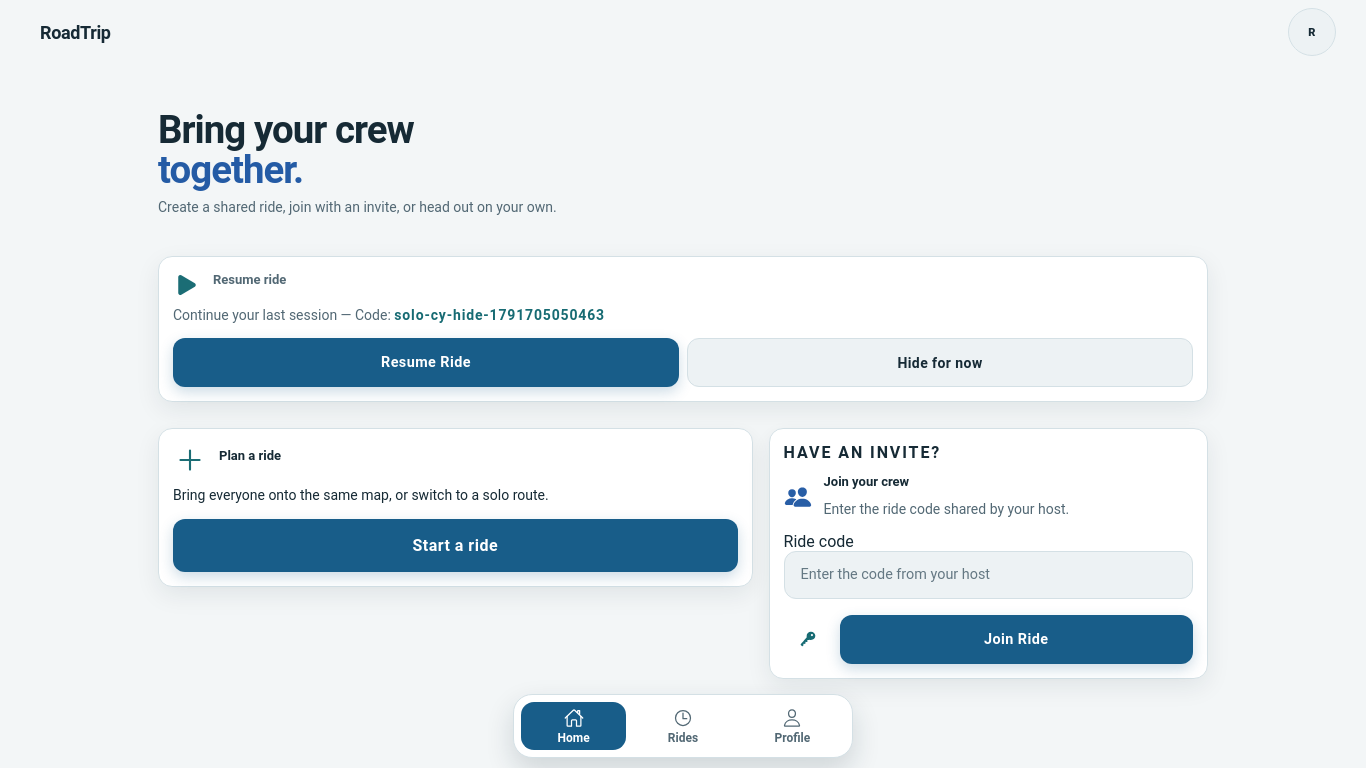
Scenario: step-by-step ride setup › hides a resume card without deleting its session, track, or photo records
What coordinates should you click on to do the following:
click the button "Hide for now"
I would click on:
 (940, 363)
Its box is left=687, top=338, right=1193, bottom=387.
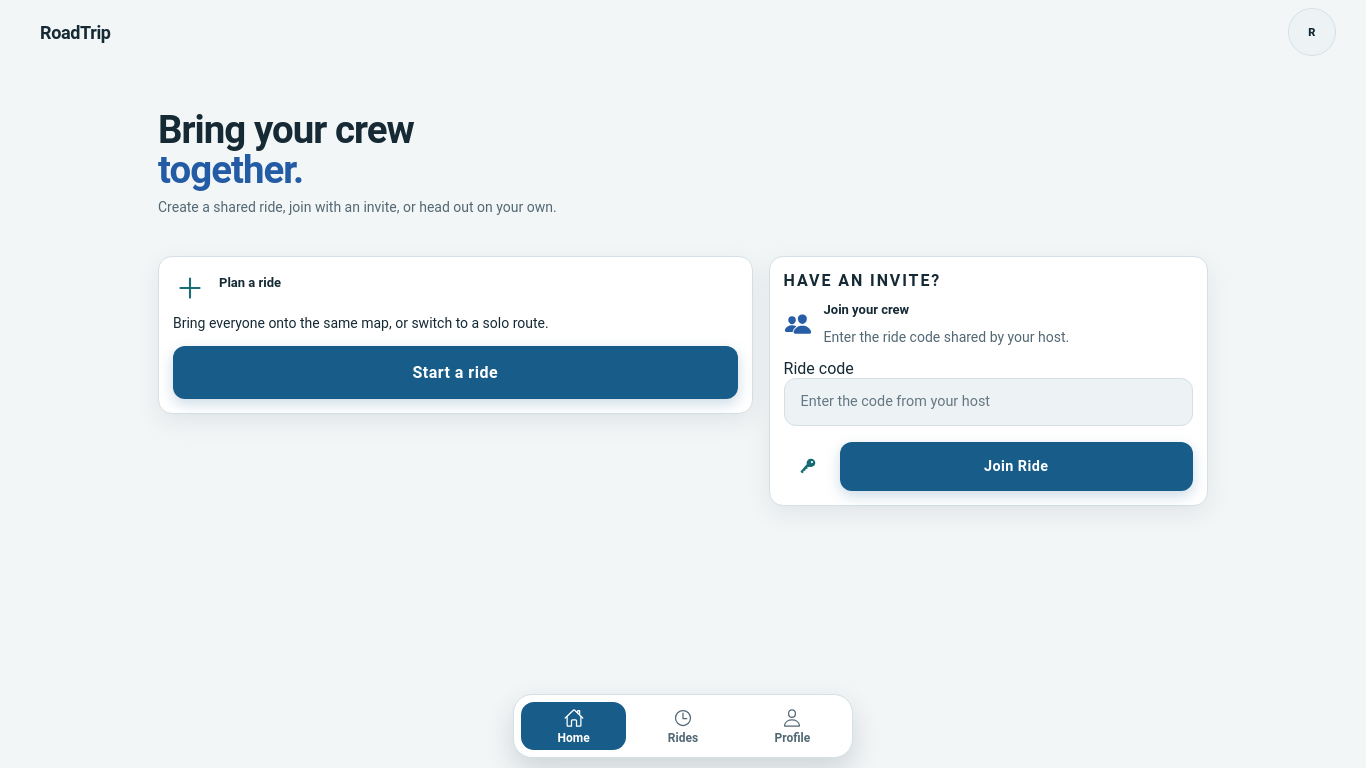
expect the element with class "crew-resume-card" is gone: met
